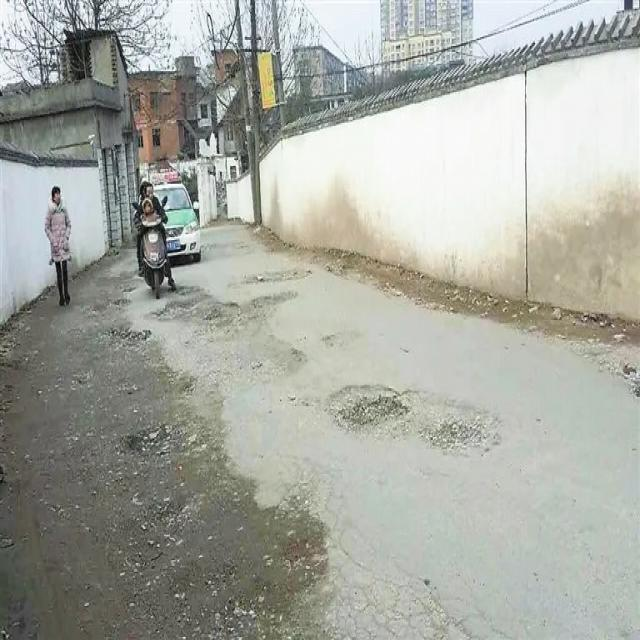Pothole: (158, 302, 314, 384), (325, 381, 413, 431), (122, 422, 208, 465), (421, 421, 496, 458), (139, 494, 193, 536), (243, 267, 316, 283), (108, 328, 156, 351), (317, 328, 361, 351), (111, 294, 129, 306), (120, 283, 134, 292)
